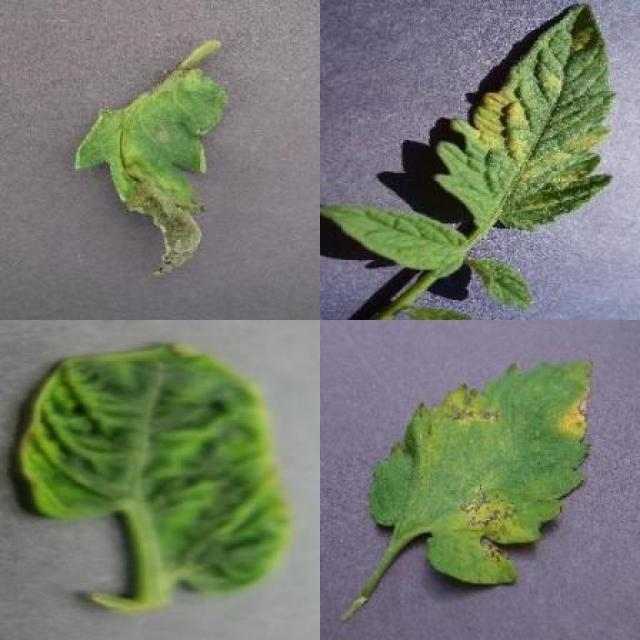Healthy: (320, 202, 467, 272)
Late Blight: (75, 64, 228, 279)
Leaf Mold: (435, 3, 615, 226)
Septoria: (372, 357, 592, 586)
Yellow Leaf Curl Virus: (18, 339, 292, 595)
